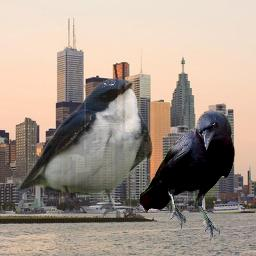Crow: (140, 112, 235, 242)
Swallow: (15, 78, 154, 217)
